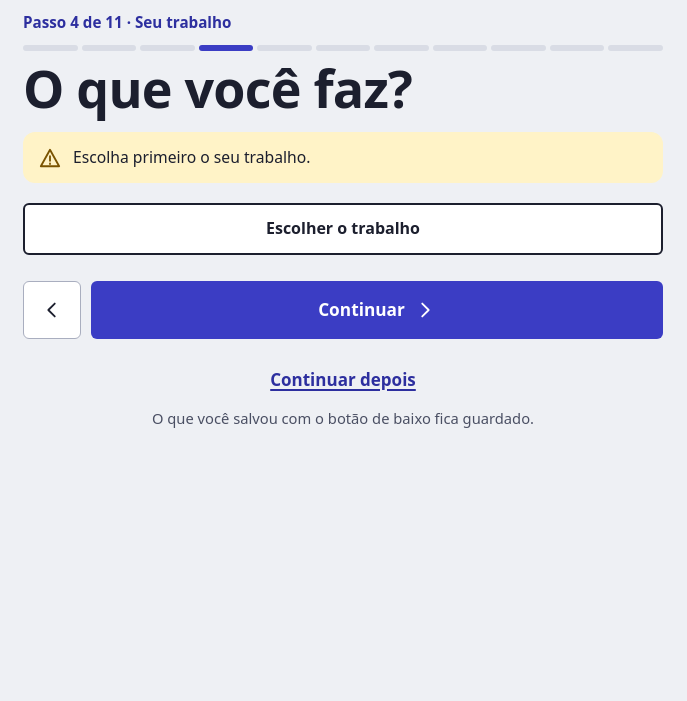
Scenario: etapas 4 a 6: serviços, experiência e valor › sem trabalho escolhido, serviços manda de volta para a etapa 1
This screenshot has width=687, height=701.
Click the button "Escolher o trabalho": (343, 229) [23,203,663,255]
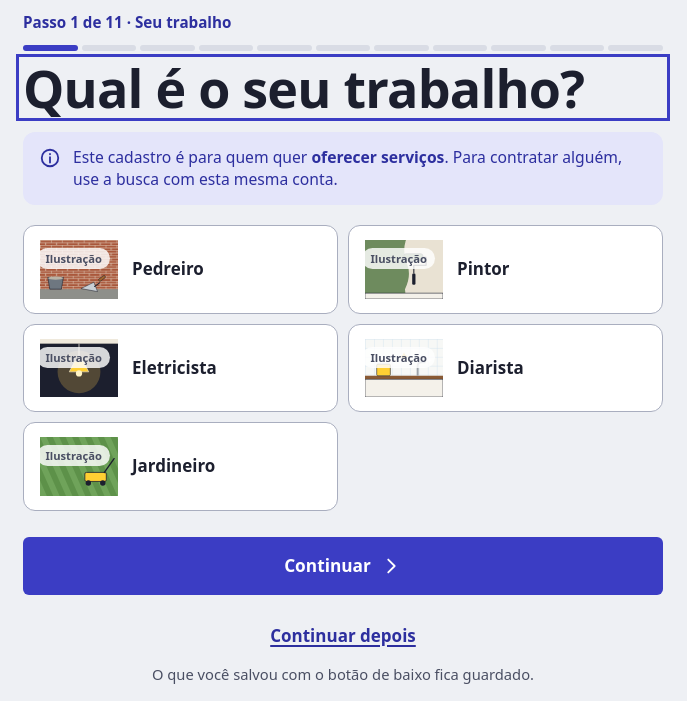
Check: the heading "Qual é o seu trabalho?" is shown, box [23,61,663,114]
